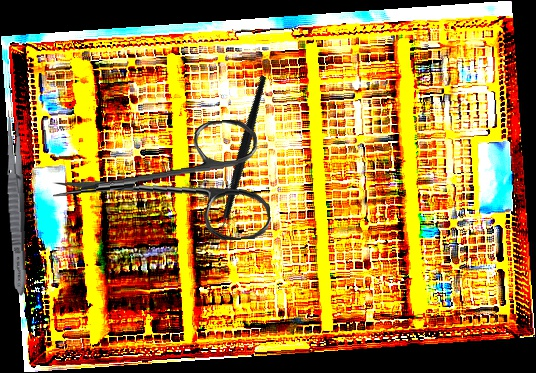Chopper: (167, 74, 321, 251)
Dressing Forceps: (2, 109, 30, 297)
Iris Scissors: (48, 117, 272, 253)
